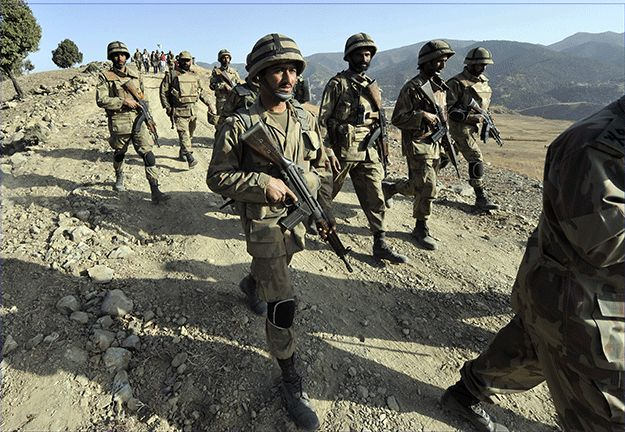gun: (244, 115, 356, 280), (418, 75, 471, 176), (351, 74, 403, 170), (461, 96, 519, 155), (121, 75, 164, 146)
uniform: (450, 84, 622, 413), (212, 20, 355, 392), (323, 17, 399, 253), (387, 31, 468, 252), (84, 28, 167, 198), (451, 37, 509, 216), (154, 42, 205, 161), (201, 44, 247, 135), (132, 43, 142, 75)
